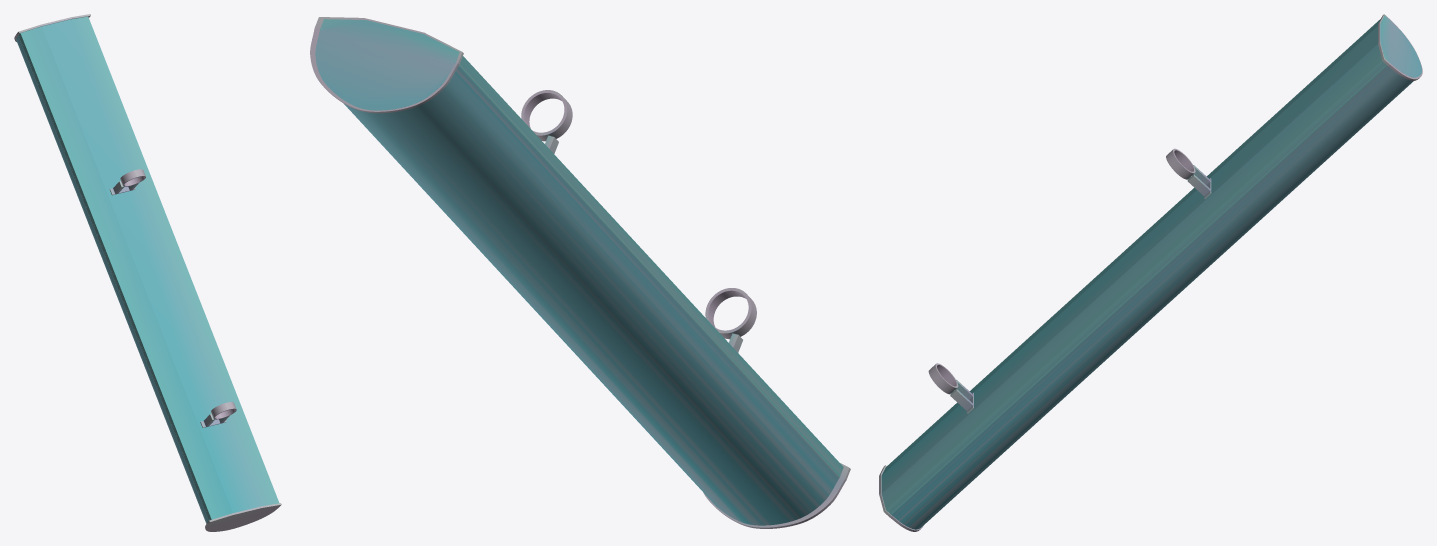
3 views of the same model, side by side, from view 1: azimuth 30°, elevation 25°; view 2: azimuth 150°, elevation 25°; view 3: azimuth 270°, elevation 25° (orthographic). The views are drawn at different scales.
Visible parts, largest first — view 1: housing, end_rim, edge_lip.001, eye; view 2: housing, edge_lip.001, end_rim.001, eye, eye.001, end_rim; view 3: housing, edge_lip.
Boxes of the visible parts, bbox=[...] form: housing: bbox=[16, 16, 279, 523]; end_rim: bbox=[205, 503, 281, 531]; edge_lip.001: bbox=[18, 35, 209, 520]; eye: bbox=[211, 402, 236, 419]; housing: bbox=[315, 19, 843, 525]; edge_lip.001: bbox=[454, 60, 840, 477]; end_rim.001: bbox=[310, 17, 463, 113]; eye: bbox=[705, 288, 756, 339]; eye.001: bbox=[521, 90, 572, 141]; end_rim: bbox=[703, 463, 850, 528]; housing: bbox=[881, 15, 1421, 529]; edge_lip: bbox=[890, 62, 1389, 514].
Size of the model in its own units: 2.03 by 10.04 by 10.04.
